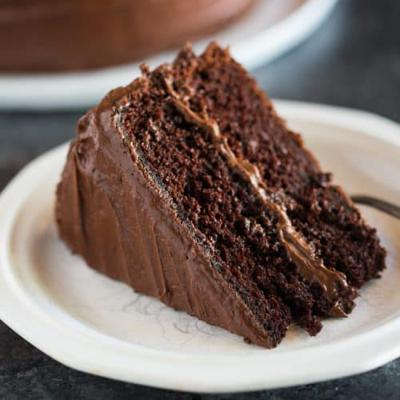cake: (50, 37, 389, 360)
